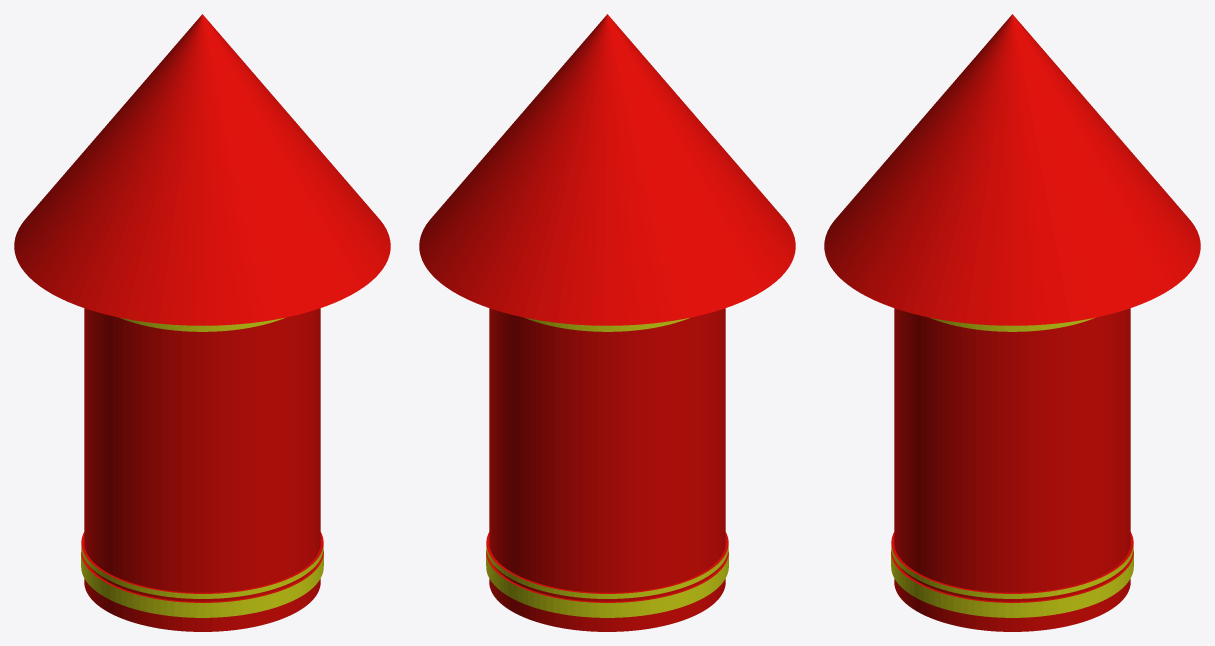
The model's file is RedRocket.fbx.
3 views of the same model, side by side, from view 1: azimuth 30°, elevation 25°; view 2: azimuth 150°, elevation 25°; view 3: azimuth 270°, elevation 25° (orthographic).
Visible parts, largest first — view 1: Cylinder, Cone; view 2: Cylinder, Cone; view 3: Cylinder, Cone.
Boxes of the visible parts, bbox=[...] form: Cylinder: bbox=[81, 308, 323, 631]; Cone: bbox=[14, 14, 390, 325]; Cylinder: bbox=[486, 308, 728, 631]; Cone: bbox=[419, 14, 795, 325]; Cylinder: bbox=[891, 308, 1133, 631]; Cone: bbox=[824, 14, 1200, 325].
Size of the model in its own units: 377 by 628 by 377.
